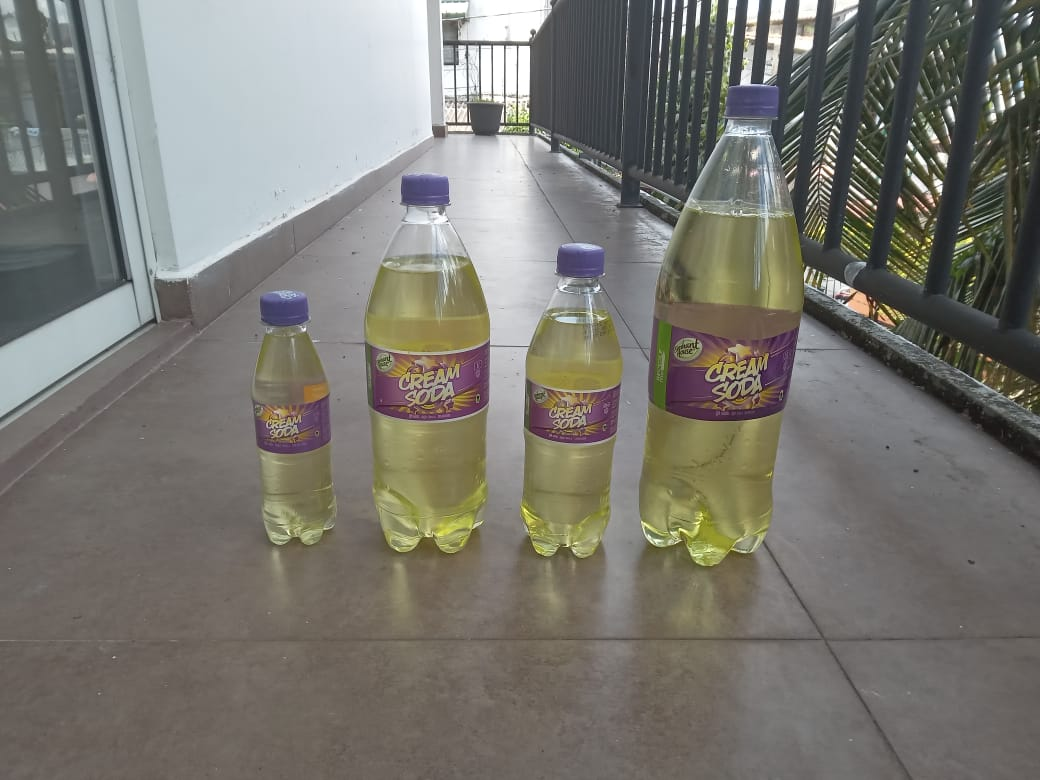L: (639, 85, 807, 566)
M: (362, 175, 493, 548)
S: (520, 242, 622, 557)
Xs: (246, 292, 340, 547)
